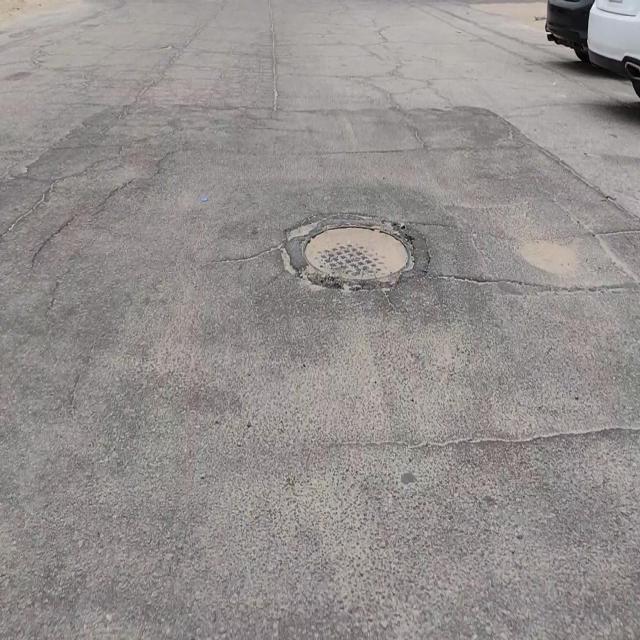Pothole: (301, 220, 411, 282)
